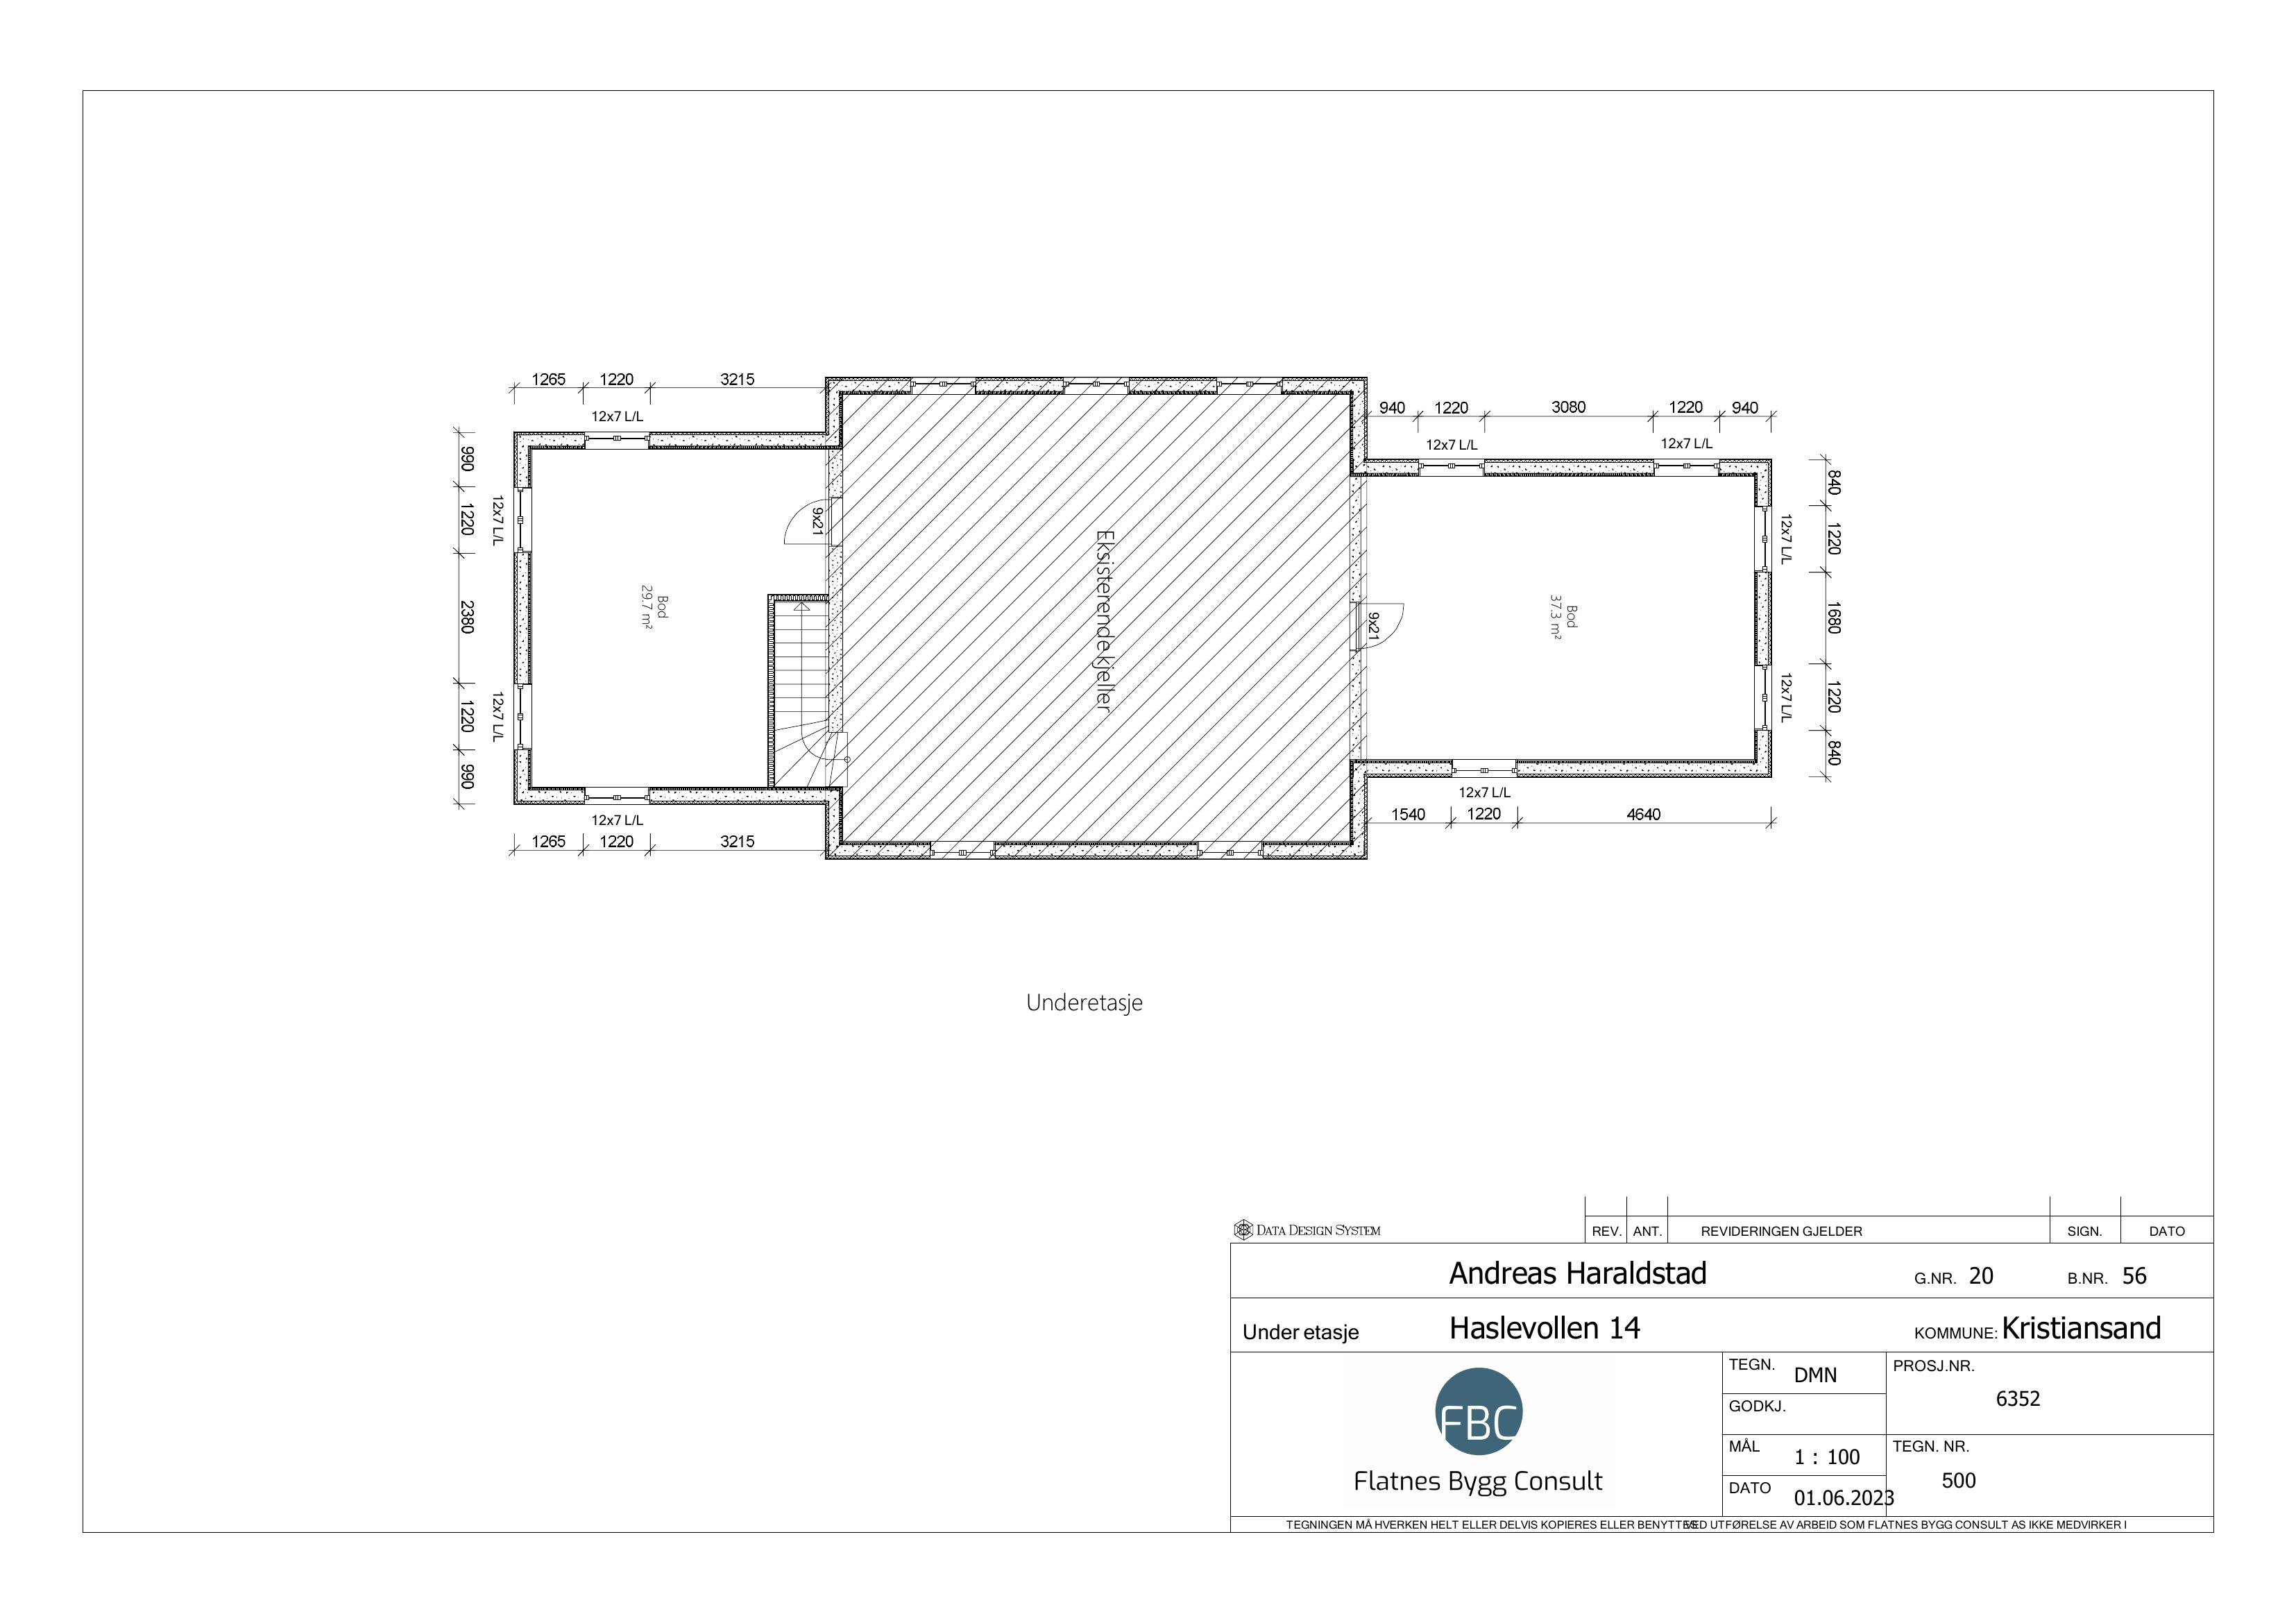plantegning: (474, 372, 1790, 861)
